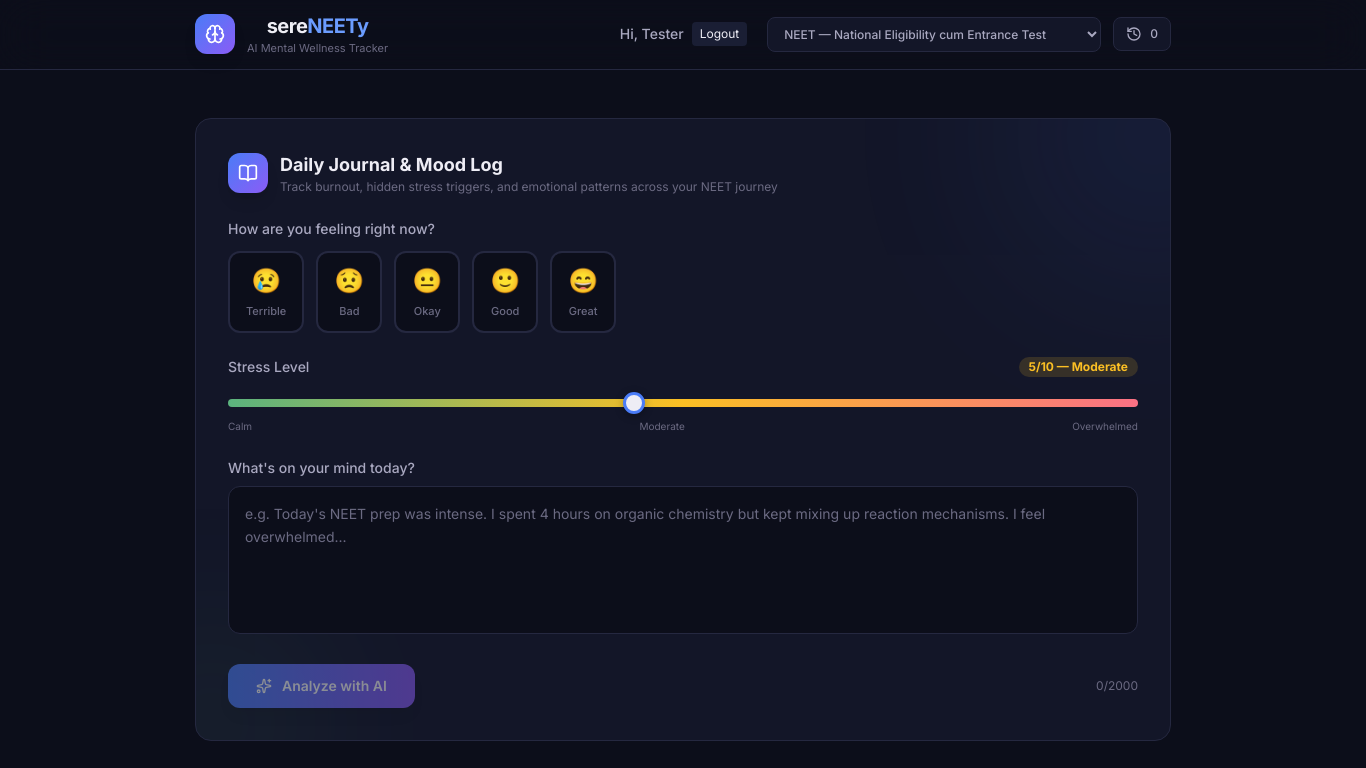
sereNEETy — Dashboard [CodeQuality:Efficiency:Accessibility:Security:Testing:ProblemStatement] › [Efficiency] stress level slider updates the displayed value
This screenshot has width=1366, height=768.
Set the slider named "stress level: 5 out of 10" to "8" at (931, 403), box [228,399,1138,407]
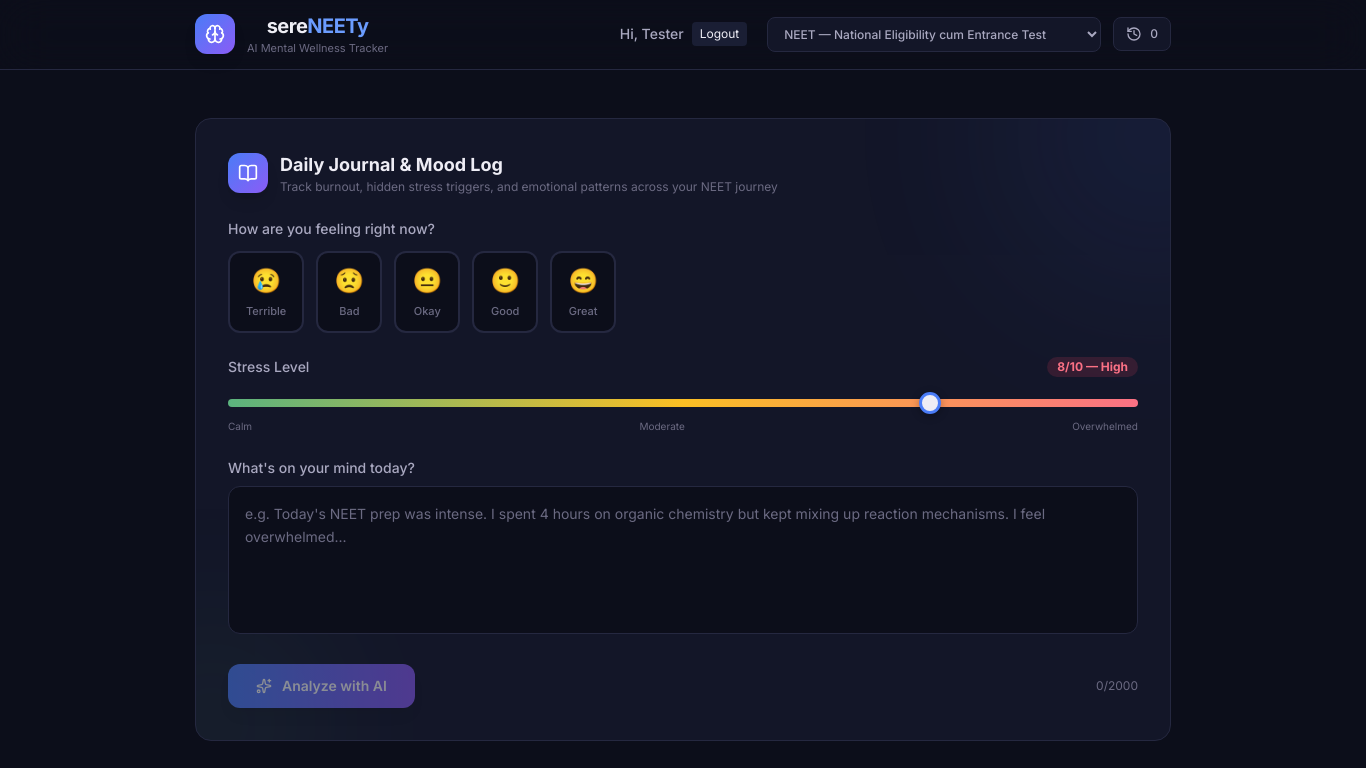
Check: the text "8/10 — High" is shown, box [1047,357,1138,377]
